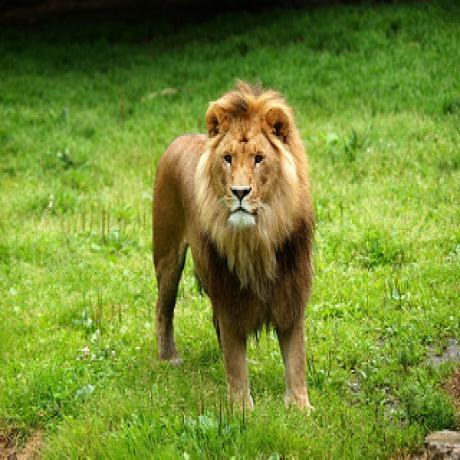Lion: (151, 82, 317, 418)
